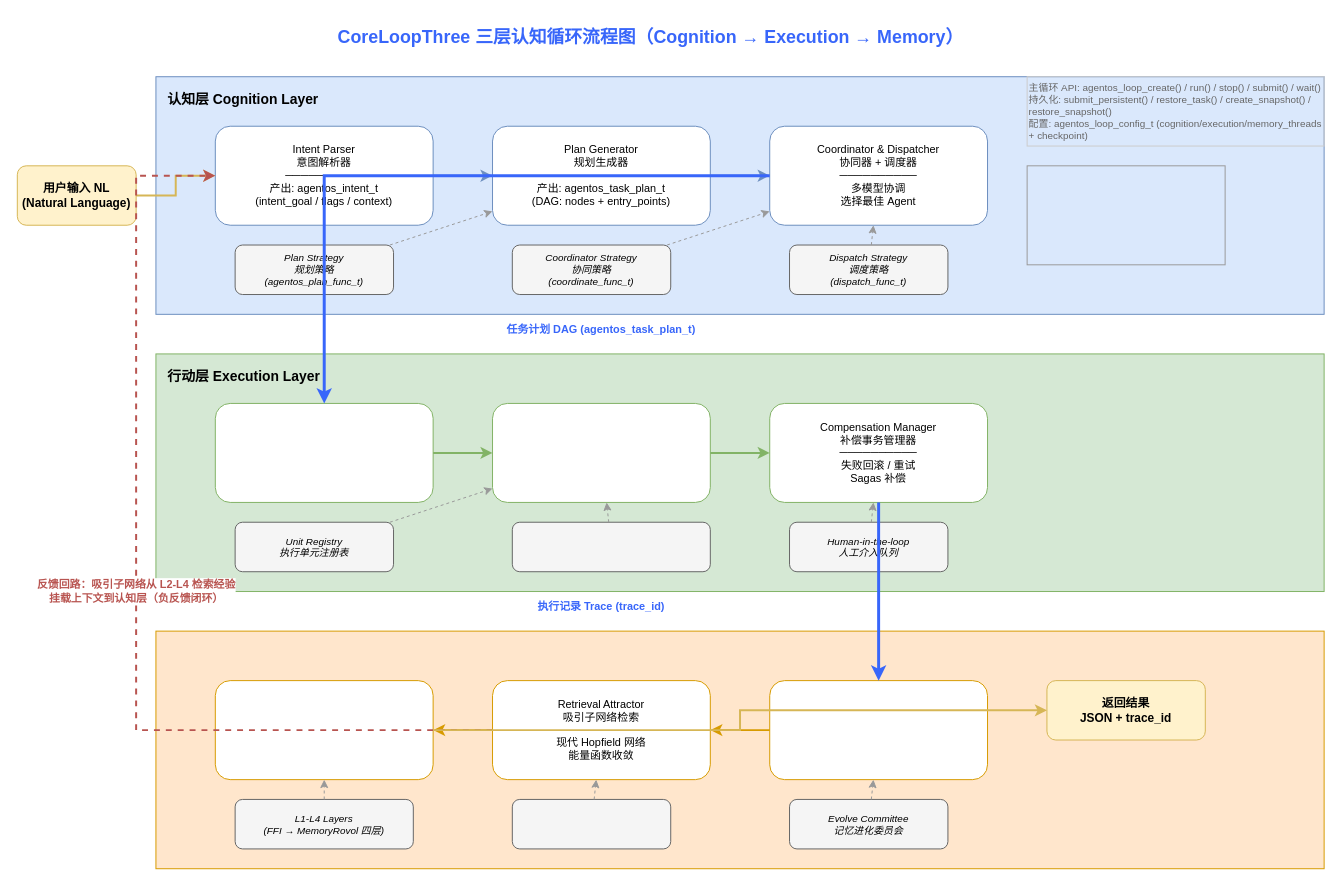
This 1341x886 diagram has some shape labels left out. The shapes that lost their labels are listed below. From the top down, each one's box as (x1, y1, x2, y2) in pixels, then its label:
(1026, 165, 1225, 265): 图例： ━━ 主数据流（蓝粗线） ── 层内流转（实线） ┄┄ 策略挂件引用（灰虚线） ┄┄ 反馈回路（红虚线）
(214, 402, 433, 502): Task Manager 任务管理器 ────────── agentos_task_t (task_id / status / input)
(492, 402, 710, 502): Execution Engine 执行引擎 ────────── 调用 execution_unit.execute() 支持 7 状态状态机
(511, 521, 710, 572): State Machine PENDING→RUNNING→SUCCEEDED / FAILED / TIMEOUT / RETRYING
(214, 680, 433, 780): Memory Engine 记忆引擎封装 ────────── agentos_memory_engine_t write / get / delete
(155, 630, 1324, 869): 记忆层 Memory Layer
(769, 680, 988, 780): Forgetting Engine 遗忘引擎 ────────── 艾宾浩斯 R(t)=exp(-t/λ) 线性衰减 / 访问次数
(511, 798, 671, 849): Mount Context 上下文挂载 (memoryrov_mount)
